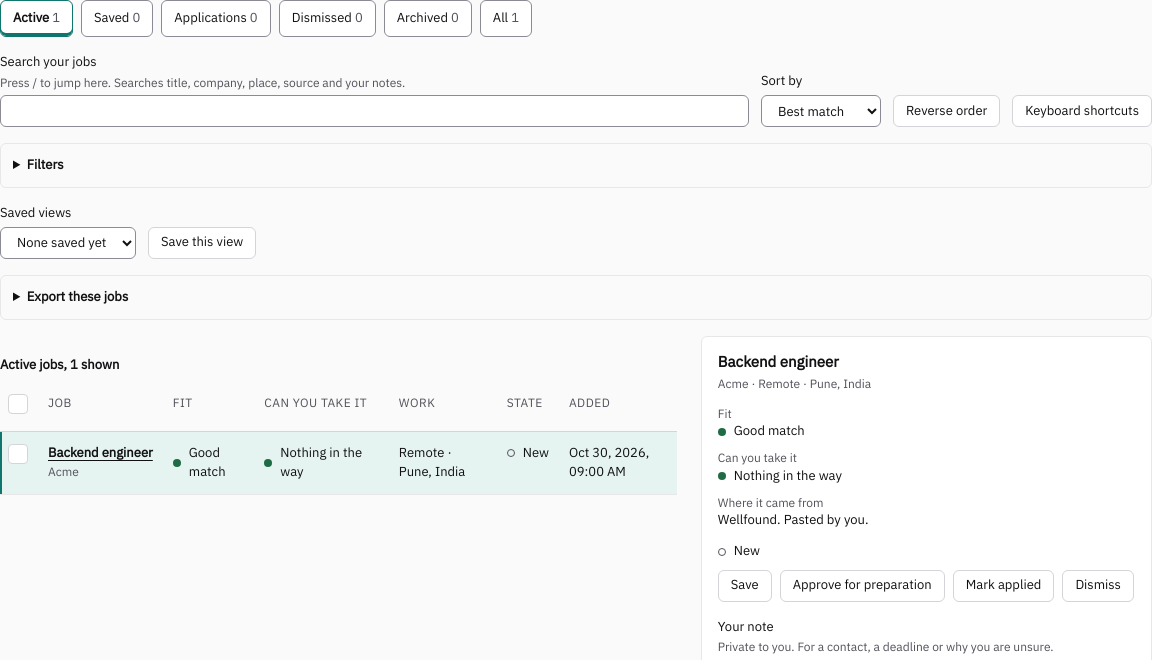
Workbench › opens the shortcut list from the button
Click the button "Keyboard shortcuts" at (1082, 111), box [1012,95,1151,127]
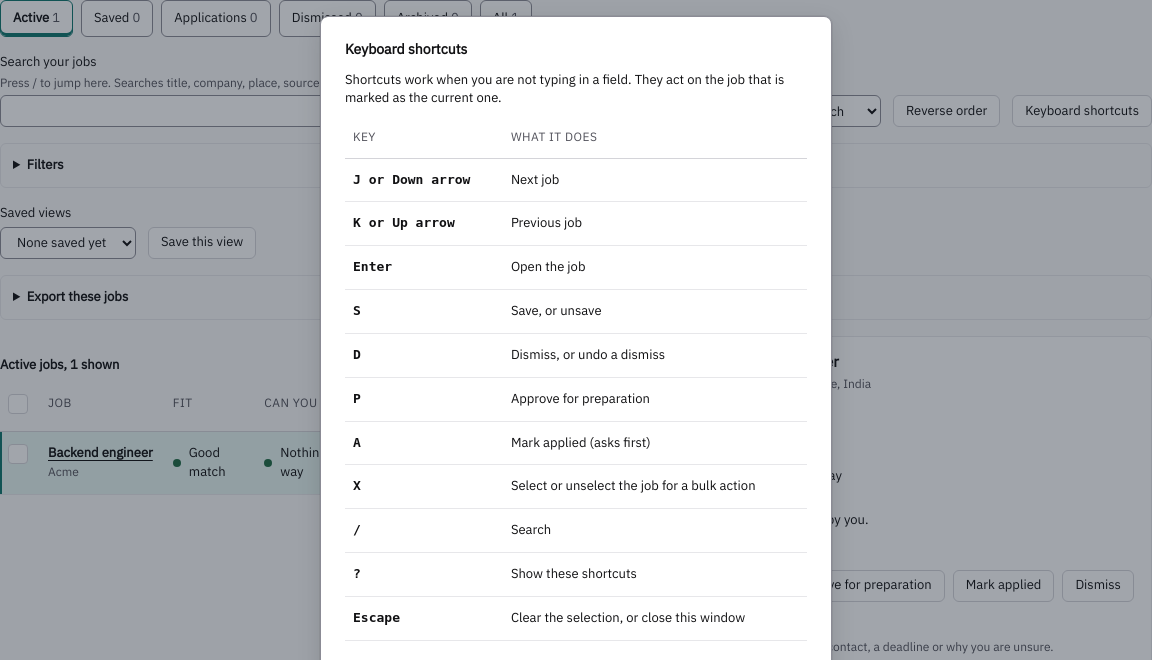
Check: the text "Shortcuts work when you are not typing" is shown, box [345,70,784,106]
